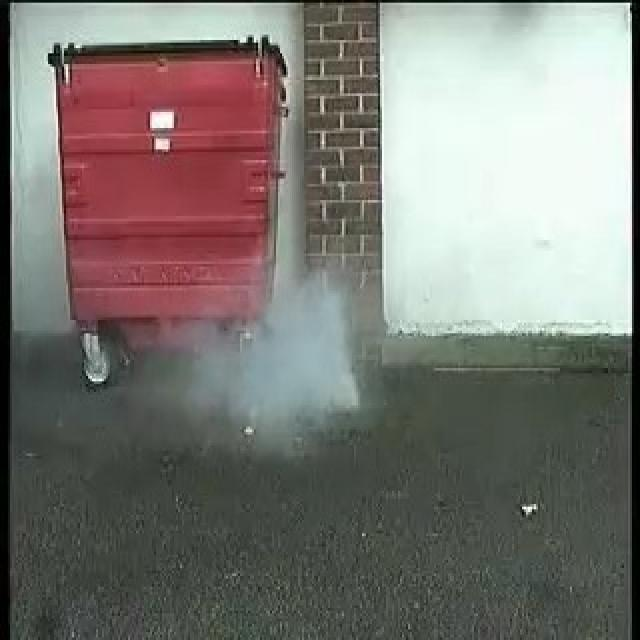smoke: (192, 279, 357, 442)
